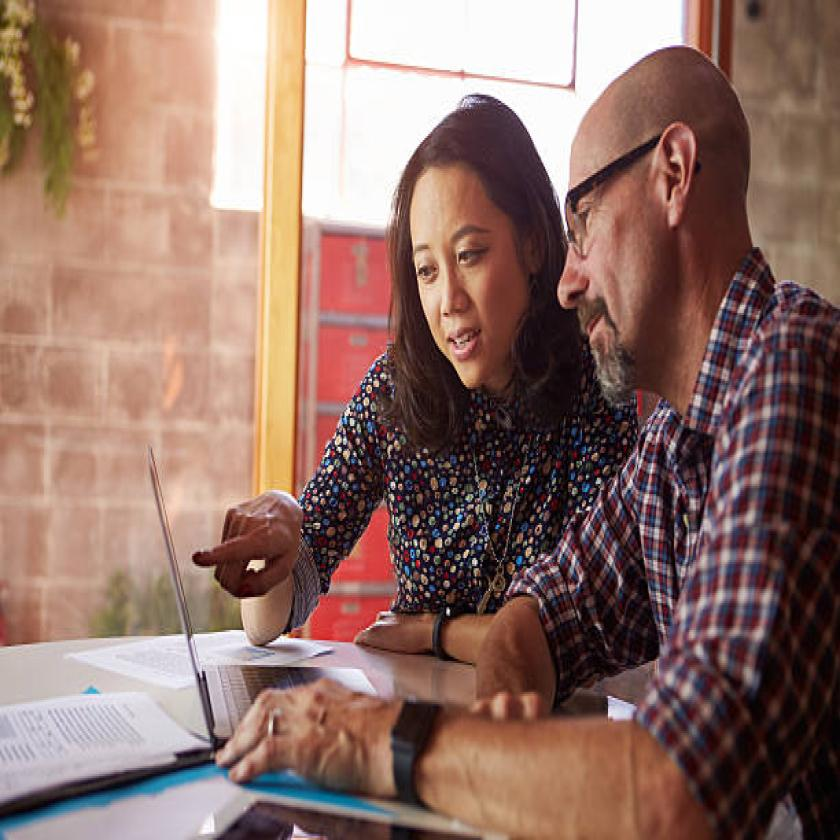Sin_casco: (558, 28, 767, 415), (382, 83, 548, 422)
